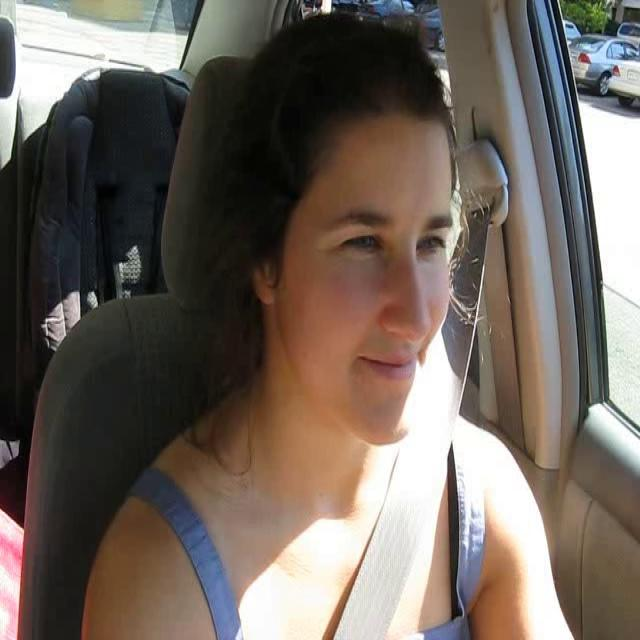close: (356, 346, 421, 386)
